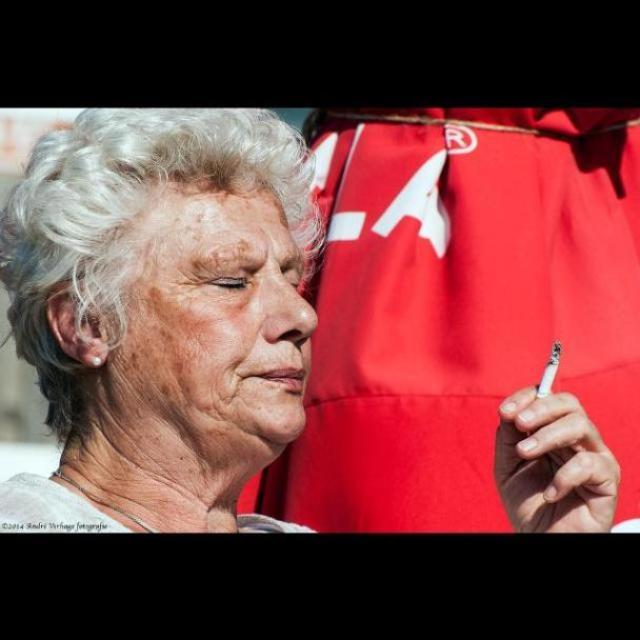rokok: (532, 332, 566, 404)
